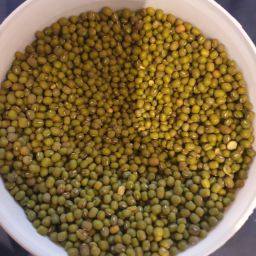Green gram dal(moong): (46, 82, 206, 208), (23, 162, 219, 256), (153, 41, 246, 238), (29, 38, 114, 249), (24, 25, 226, 104), (81, 53, 153, 250), (18, 40, 233, 99), (2, 62, 50, 206)
